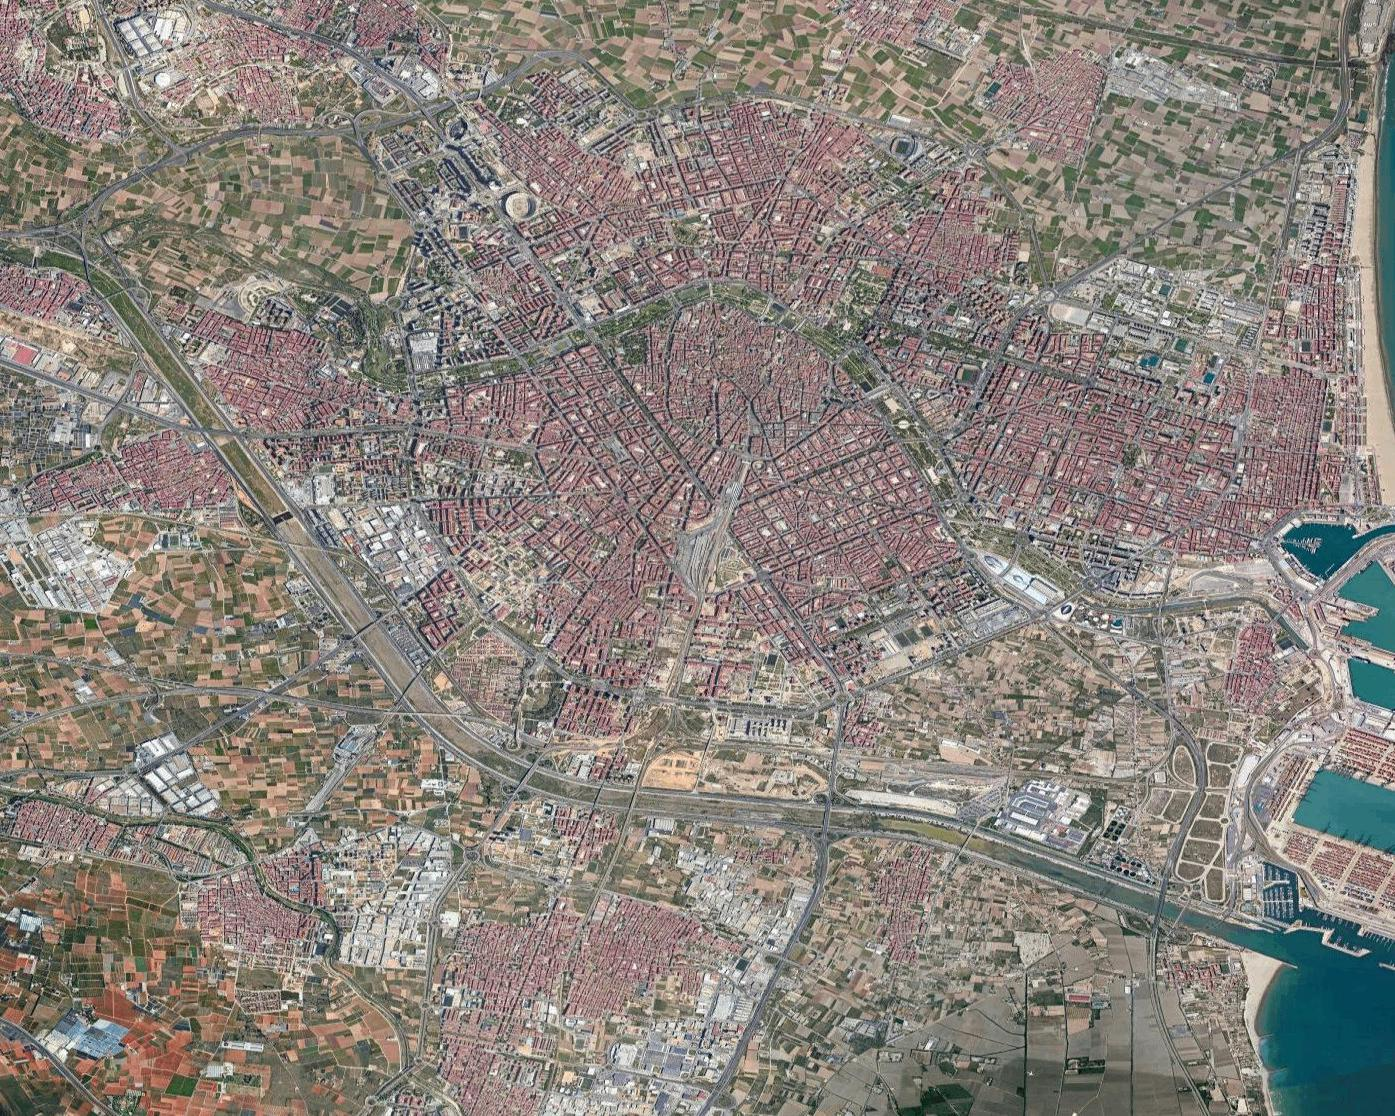bridge: (397, 672, 419, 701), (354, 615, 380, 639), (1154, 885, 1170, 919), (104, 284, 128, 304), (819, 801, 834, 834), (625, 783, 639, 817), (520, 764, 536, 787)
industrial: (346, 834, 448, 974), (16, 510, 123, 612), (1110, 49, 1229, 110), (133, 735, 214, 818)
motorway: (133, 123, 239, 178), (93, 225, 146, 321), (80, 386, 187, 430), (797, 790, 926, 822), (739, 966, 780, 1044), (662, 787, 799, 810), (409, 704, 463, 760), (701, 1043, 742, 1116), (1, 352, 74, 392), (1062, 857, 1147, 892), (80, 171, 134, 221), (240, 118, 350, 143), (366, 648, 410, 708), (363, 594, 404, 650), (408, 660, 449, 716), (278, 536, 319, 591), (321, 590, 362, 645), (315, 535, 356, 590), (194, 376, 232, 430), (274, 483, 313, 538), (1336, 2, 1353, 125), (151, 319, 189, 374), (199, 426, 237, 481), (239, 481, 277, 535), (511, 749, 567, 786), (188, 424, 277, 446), (233, 427, 271, 481), (777, 906, 809, 969), (857, 824, 950, 846), (524, 783, 593, 812), (465, 755, 520, 790), (678, 809, 761, 831), (575, 776, 658, 798), (1, 218, 81, 240), (593, 801, 676, 822), (765, 815, 848, 837), (994, 832, 1056, 860), (806, 840, 830, 908), (927, 810, 995, 832), (457, 719, 501, 752)
train_station: (686, 526, 724, 586)
